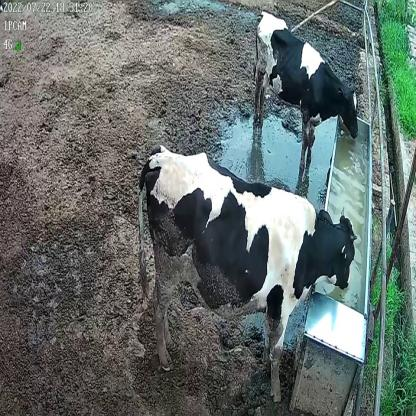cow: (134, 142, 357, 404), (251, 8, 359, 168)
